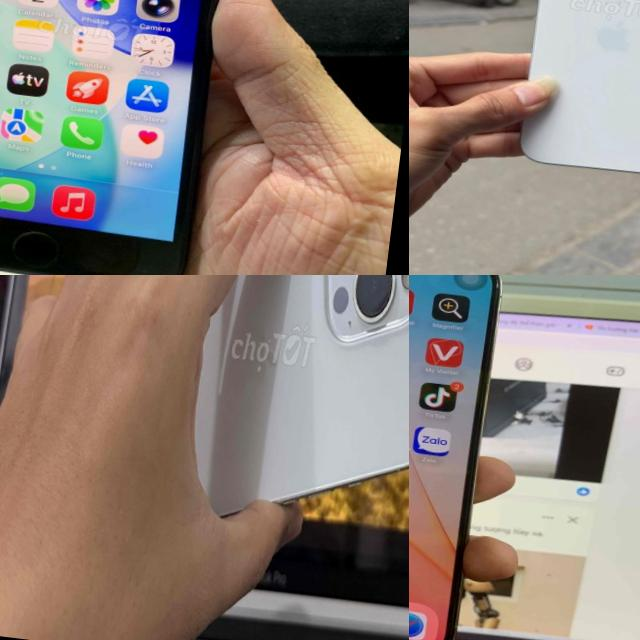gen_12_13: (160, 275, 409, 556)
gen_14: (409, 275, 521, 640)
gen_15: (501, 0, 640, 203)
gen_7_8: (0, 0, 256, 275)
